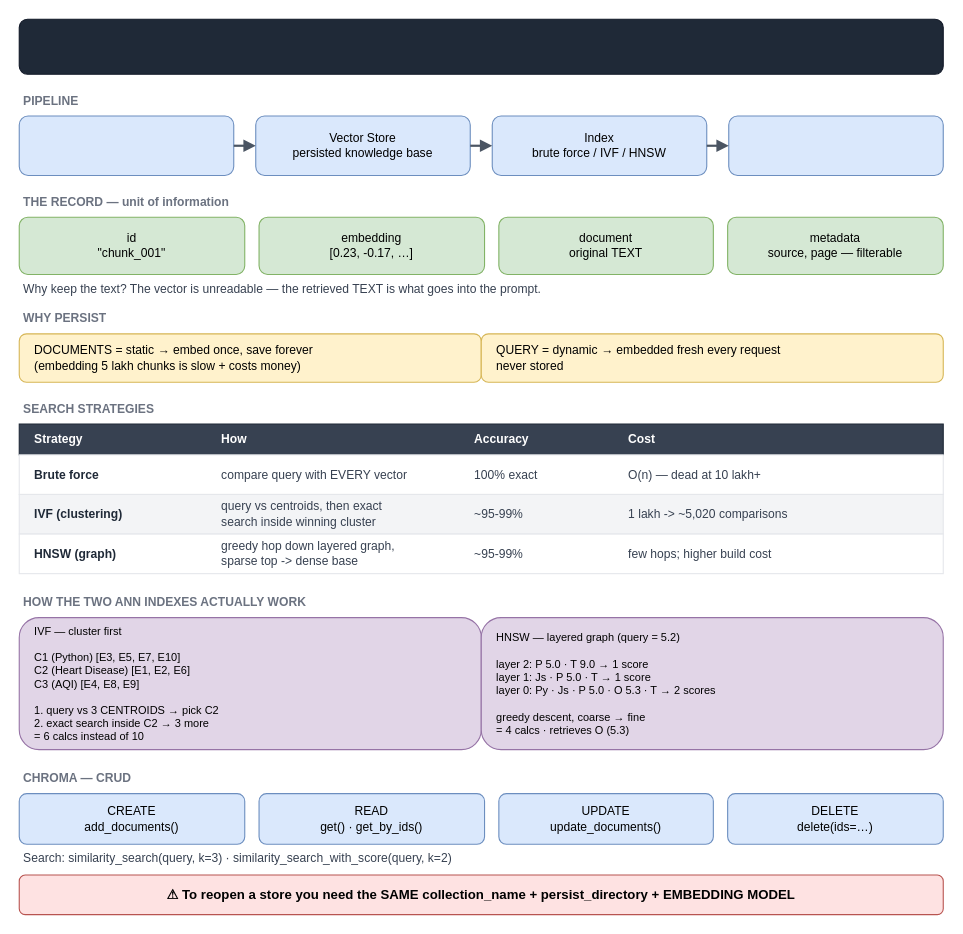
Some shapes in this 963 by 934 pixel diagram are drawn without their labels. Each missing label, with the centre of its shape:
Chunks + Embeddings one-time cost: the point at 126,145
Top-k chunks -> LLM context: the point at 835,145
VECTOR STORES — Cheat Sheet: the point at 480,46
